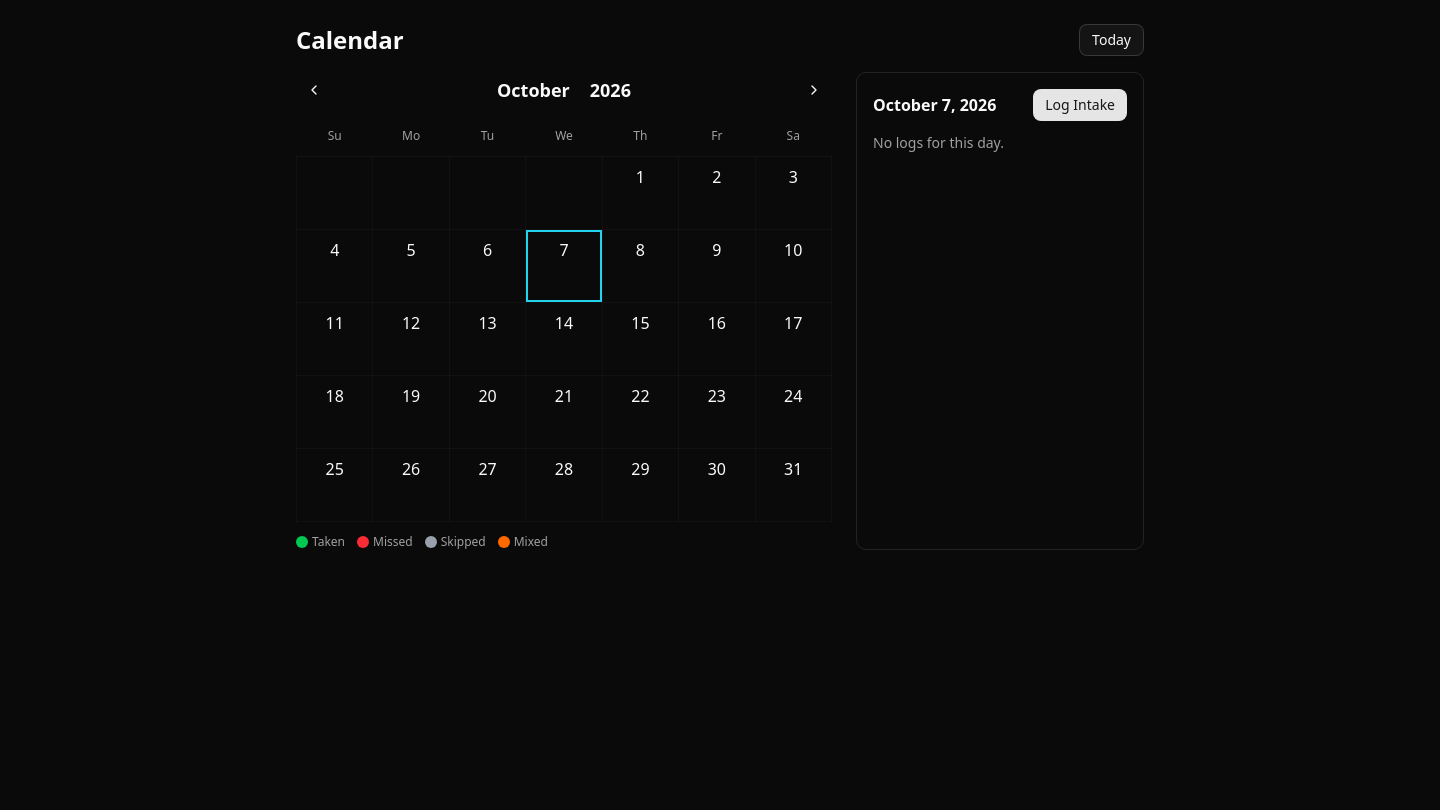
Test case: CalendarPage › [US2] selecting a year auto-closes the overlay, jumps the calendar, and refetches
Check: the table is shown, box left=296, top=116, right=832, bottom=522
Click the button named "change year" at {"x": 610, "y": 90}, box left=582, top=72, right=639, bottom=108
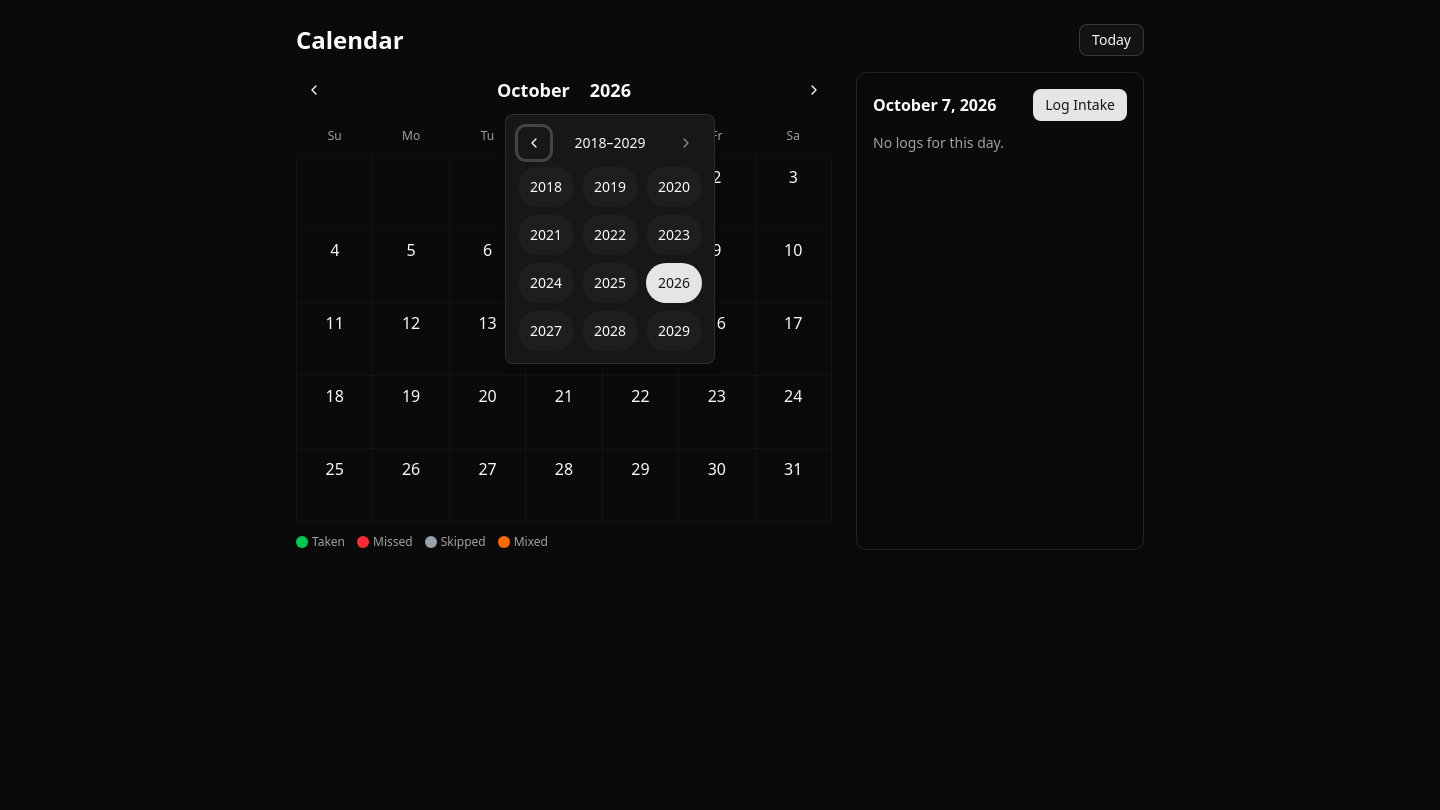
Check: the element named "year" is shown, box left=518, top=167, right=702, bottom=351
Click the button "2024" at {"x": 546, "y": 283}, box left=518, top=263, right=574, bottom=303
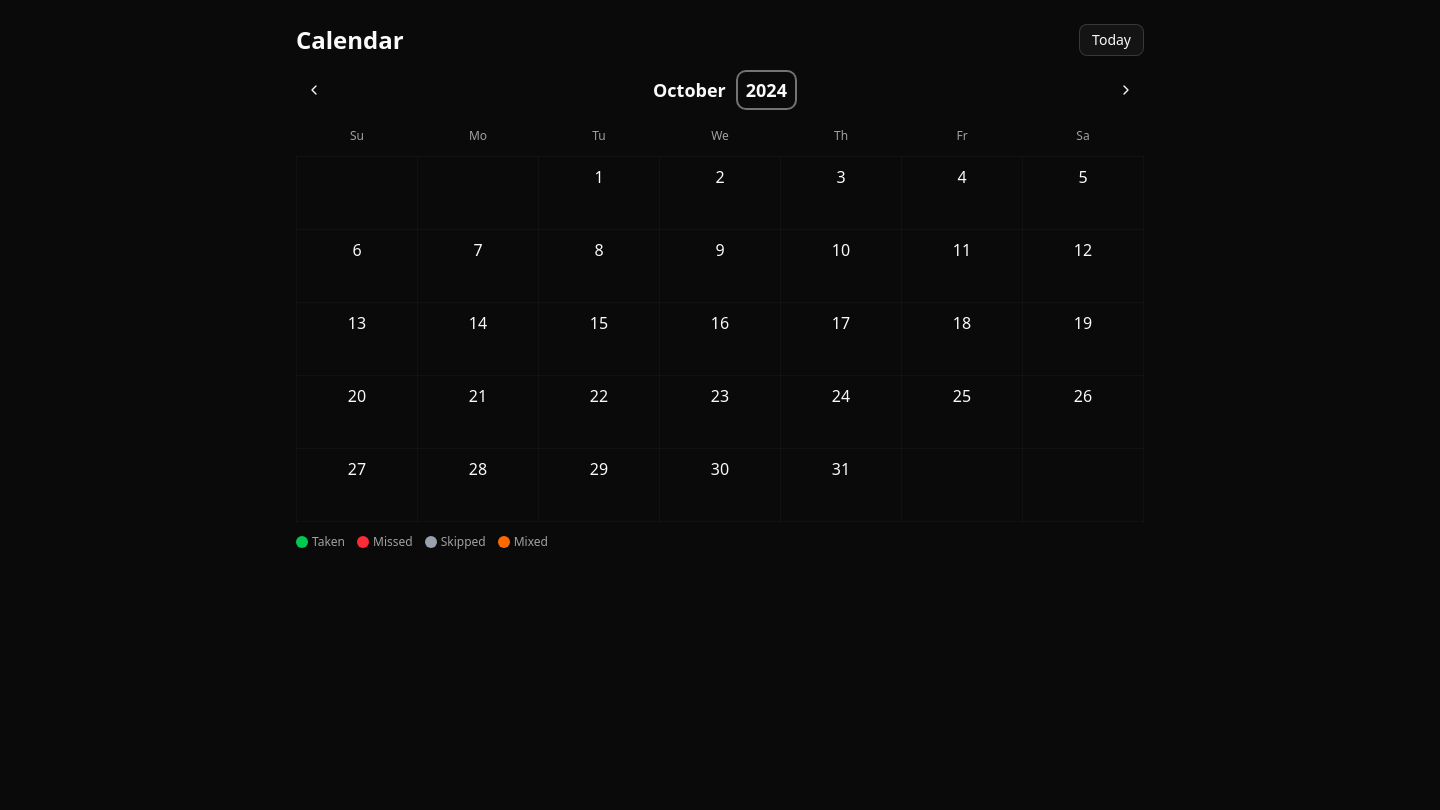
Check: the element "year" is gone
